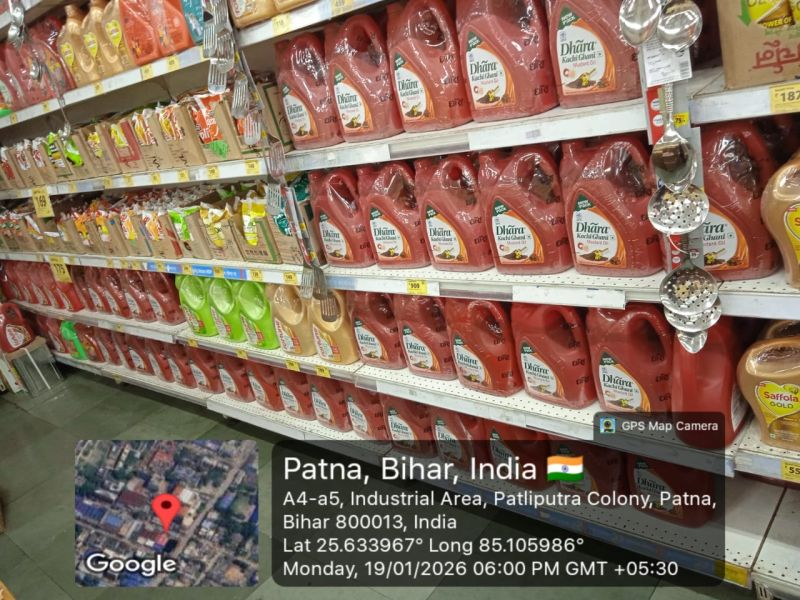other: (0, 0, 799, 439)
saffola: (0, 84, 462, 321), (738, 332, 799, 451), (762, 150, 799, 286)
